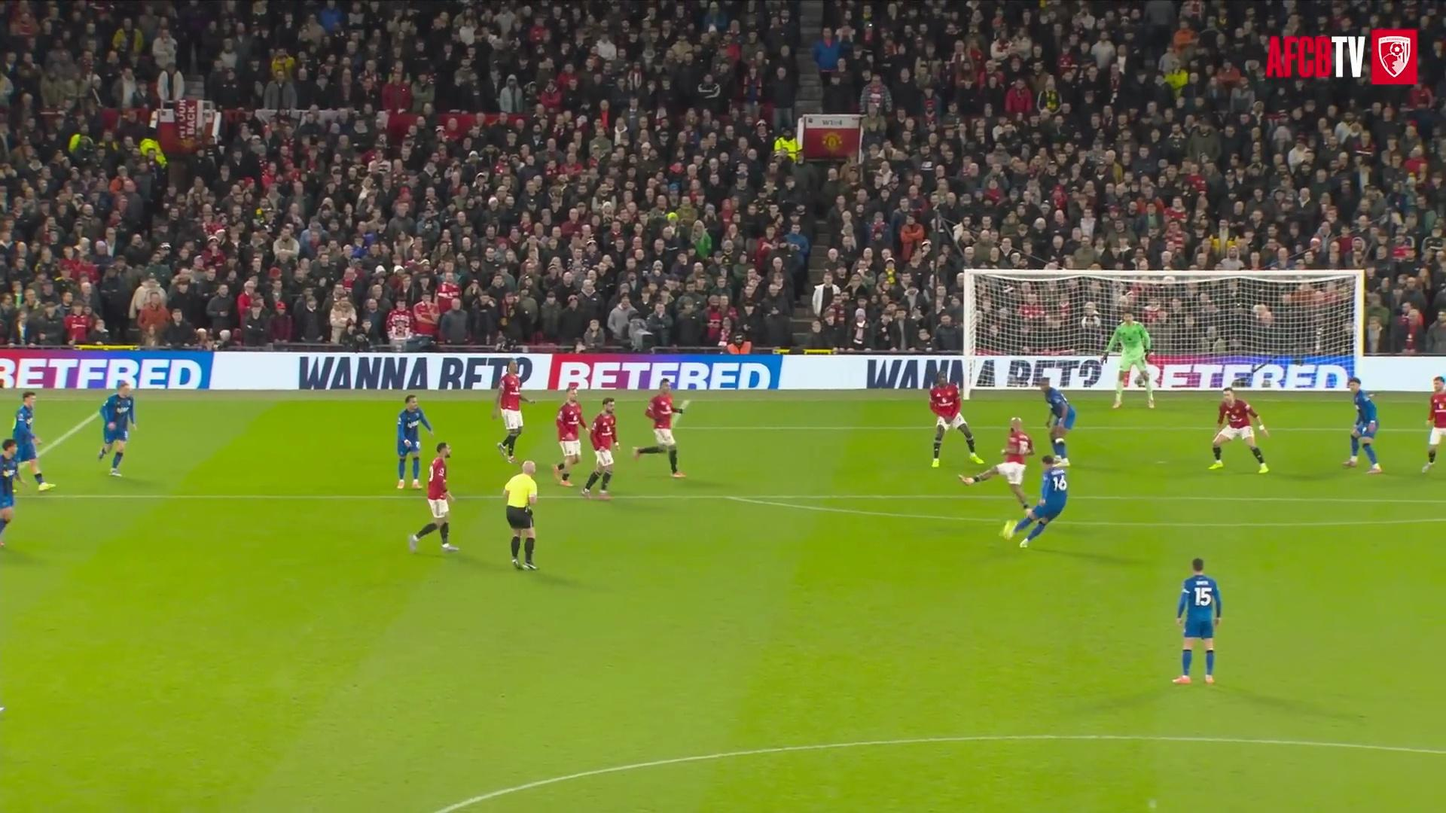player: (960, 417, 1034, 510), (1173, 558, 1221, 684), (1001, 455, 1066, 547), (408, 443, 459, 552), (633, 378, 685, 477), (929, 372, 983, 467), (1101, 312, 1154, 408), (1210, 387, 1268, 473), (12, 391, 53, 491), (493, 360, 532, 461), (581, 397, 617, 499), (1344, 376, 1381, 473), (98, 383, 136, 476), (397, 395, 433, 489), (1037, 378, 1075, 467), (553, 387, 582, 486), (1422, 376, 1445, 472), (0, 439, 18, 547)
referee: (504, 461, 538, 570)
